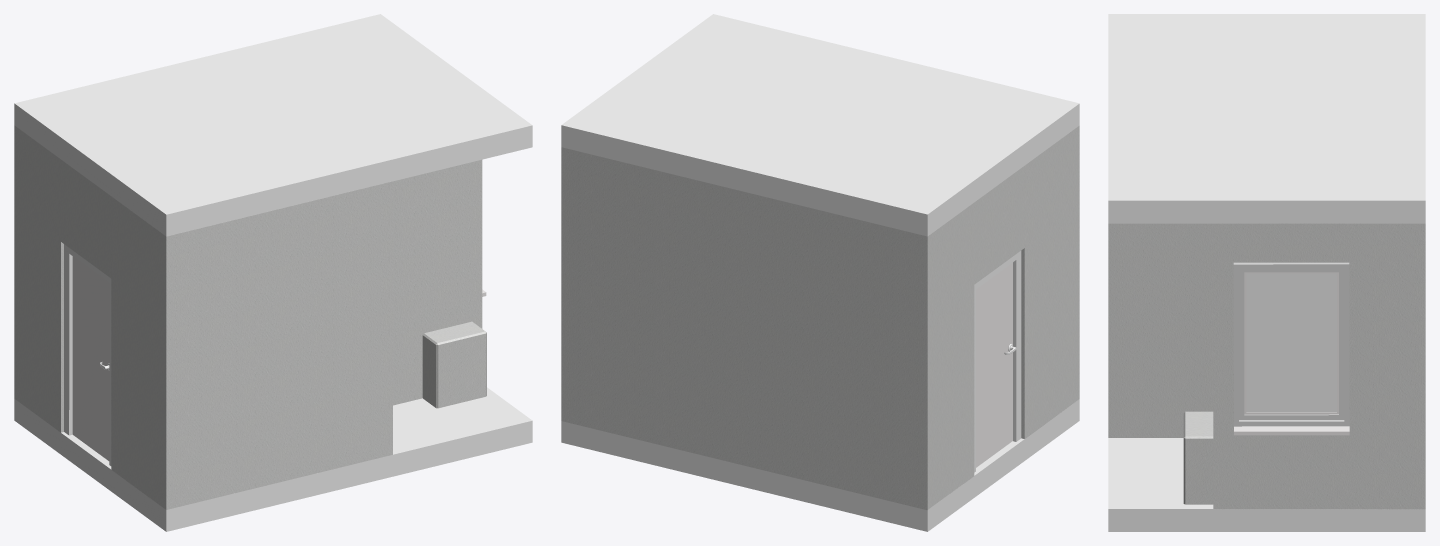
The model's file is FloorPlan422_physics.fbx.
3 renders of one model, left to right at view 1: azimuth 30°, elevation 25°; view 2: azimuth 150°, elevation 25°; view 3: azimuth 270°, elevation 25°, orthographic. The views are drawn at different scales.
Parts seen in each view (by area): view 1: FP422:Walls, FP422:Ceiling, FP422:Floor, FP422:Door.018, FP422:Cube.1954, FP422:polySurface369; view 2: FP422:Walls, FP422:Ceiling, FP422:Floor, FP422:Door.018, FP422:polySurface369; view 3: FP422:Ceiling, FP422:Walls, FP422:Floor, FP422:polySurface103, FP422:polySurface104, FP422:Cube.1954.
Boxes of the visible parts, x1,y1,x2,y2 form: FP422:Walls: (14,125,482,509); FP422:Ceiling: (14,14,532,236); FP422:Floor: (14,387,532,531); FP422:Door.018: (72,256,109,460); FP422:Cube.1954: (422,321,486,408); FP422:polySurface369: (64,244,111,465); FP422:Walls: (561,125,1079,510); FP422:Ceiling: (561,14,1079,236); FP422:Floor: (561,399,1079,531); FP422:Door.018: (976,262,1012,467); FP422:polySurface369: (974,251,1021,472); FP422:Ceiling: (1108,14,1425,223); FP422:Walls: (1108,223,1425,509); FP422:Floor: (1108,438,1425,531); FP422:polySurface103: (1246,273,1336,412); FP422:polySurface104: (1233,262,1349,435); FP422:Cube.1954: (1183,411,1213,504).
Size of the model in its own units: 436 by 348 by 302.
